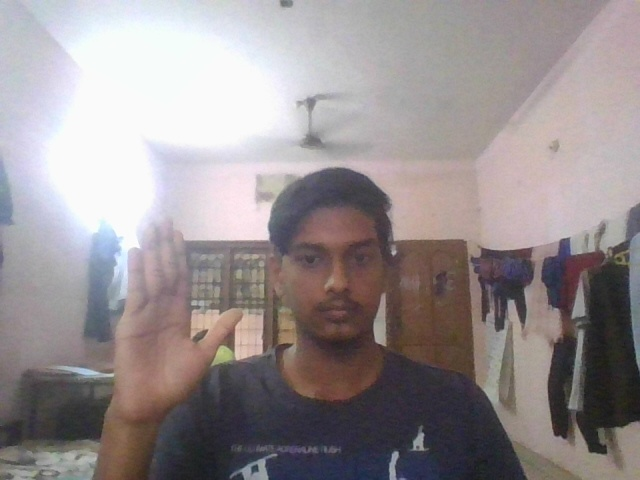hello: (109, 214, 244, 419)
